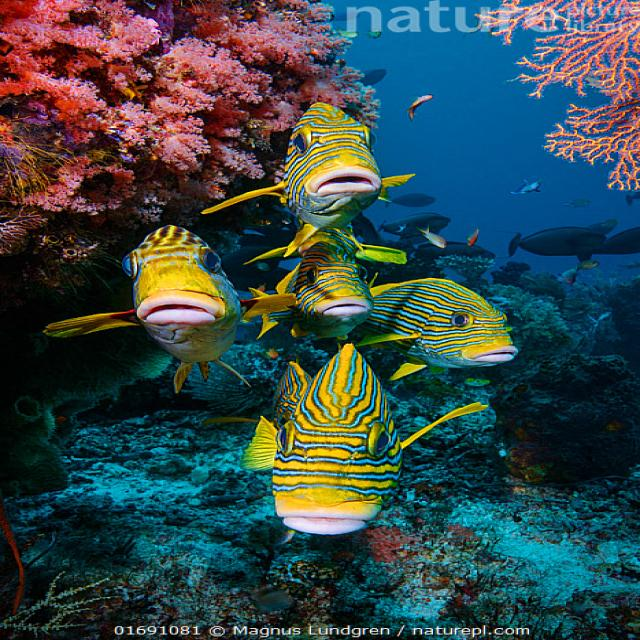RibbonedSweetlips: (237, 341, 488, 544), (42, 223, 296, 393), (200, 100, 414, 256), (354, 278, 521, 380)
